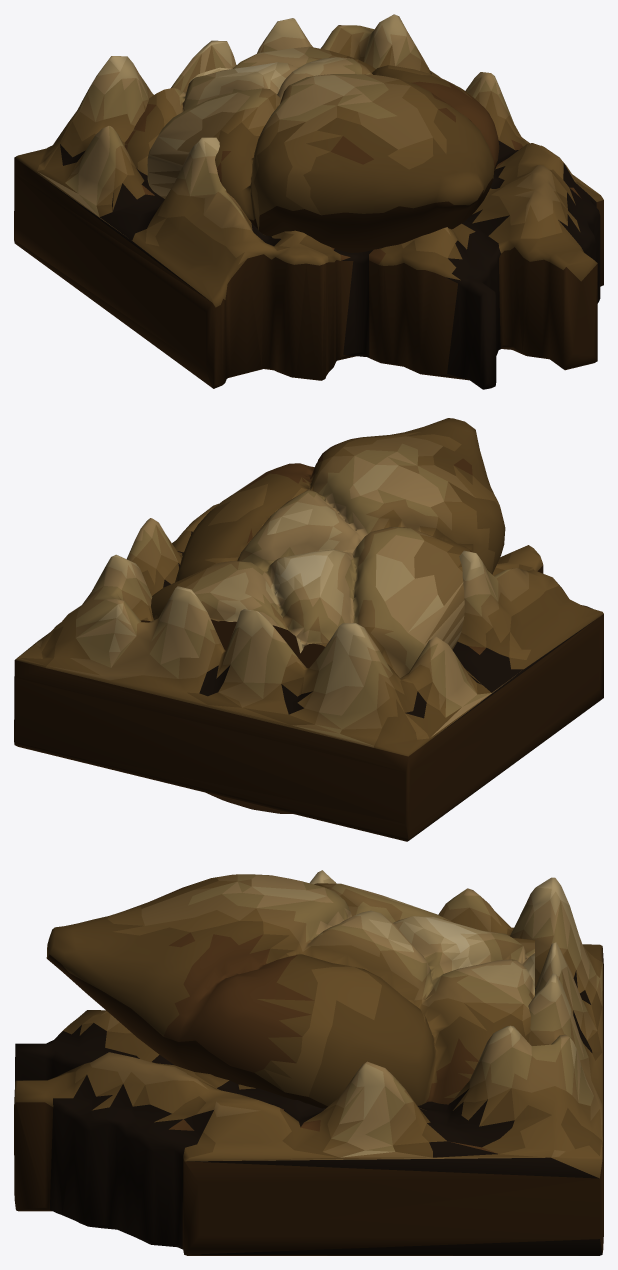
Rendered from ixm_maw_17.glb.
The picture shows the model from 3 angles, top to bottom: view 1: azimuth 30°, elevation 25°; view 2: azimuth 150°, elevation 25°; view 3: azimuth 270°, elevation 25°; orthographic projection. The views are drawn at different scales.
Visible parts, largest first — view 1: ixm_maw_17; view 2: ixm_maw_17; view 3: ixm_maw_17.
Part boxes in pixels (left/top/right/bottom): ixm_maw_17: left=14, top=14, right=603, bottom=389; ixm_maw_17: left=14, top=418, right=603, bottom=841; ixm_maw_17: left=14, top=870, right=603, bottom=1255.
Size of the model in its own units: 24.14 by 15 by 27.95.
